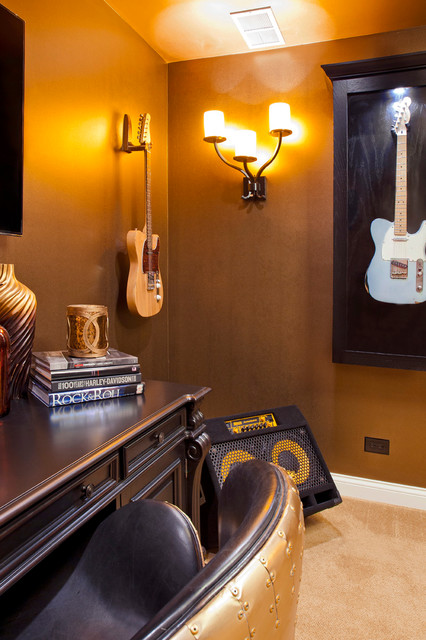acousticguitar: (362, 97, 424, 311), (129, 107, 167, 323)
